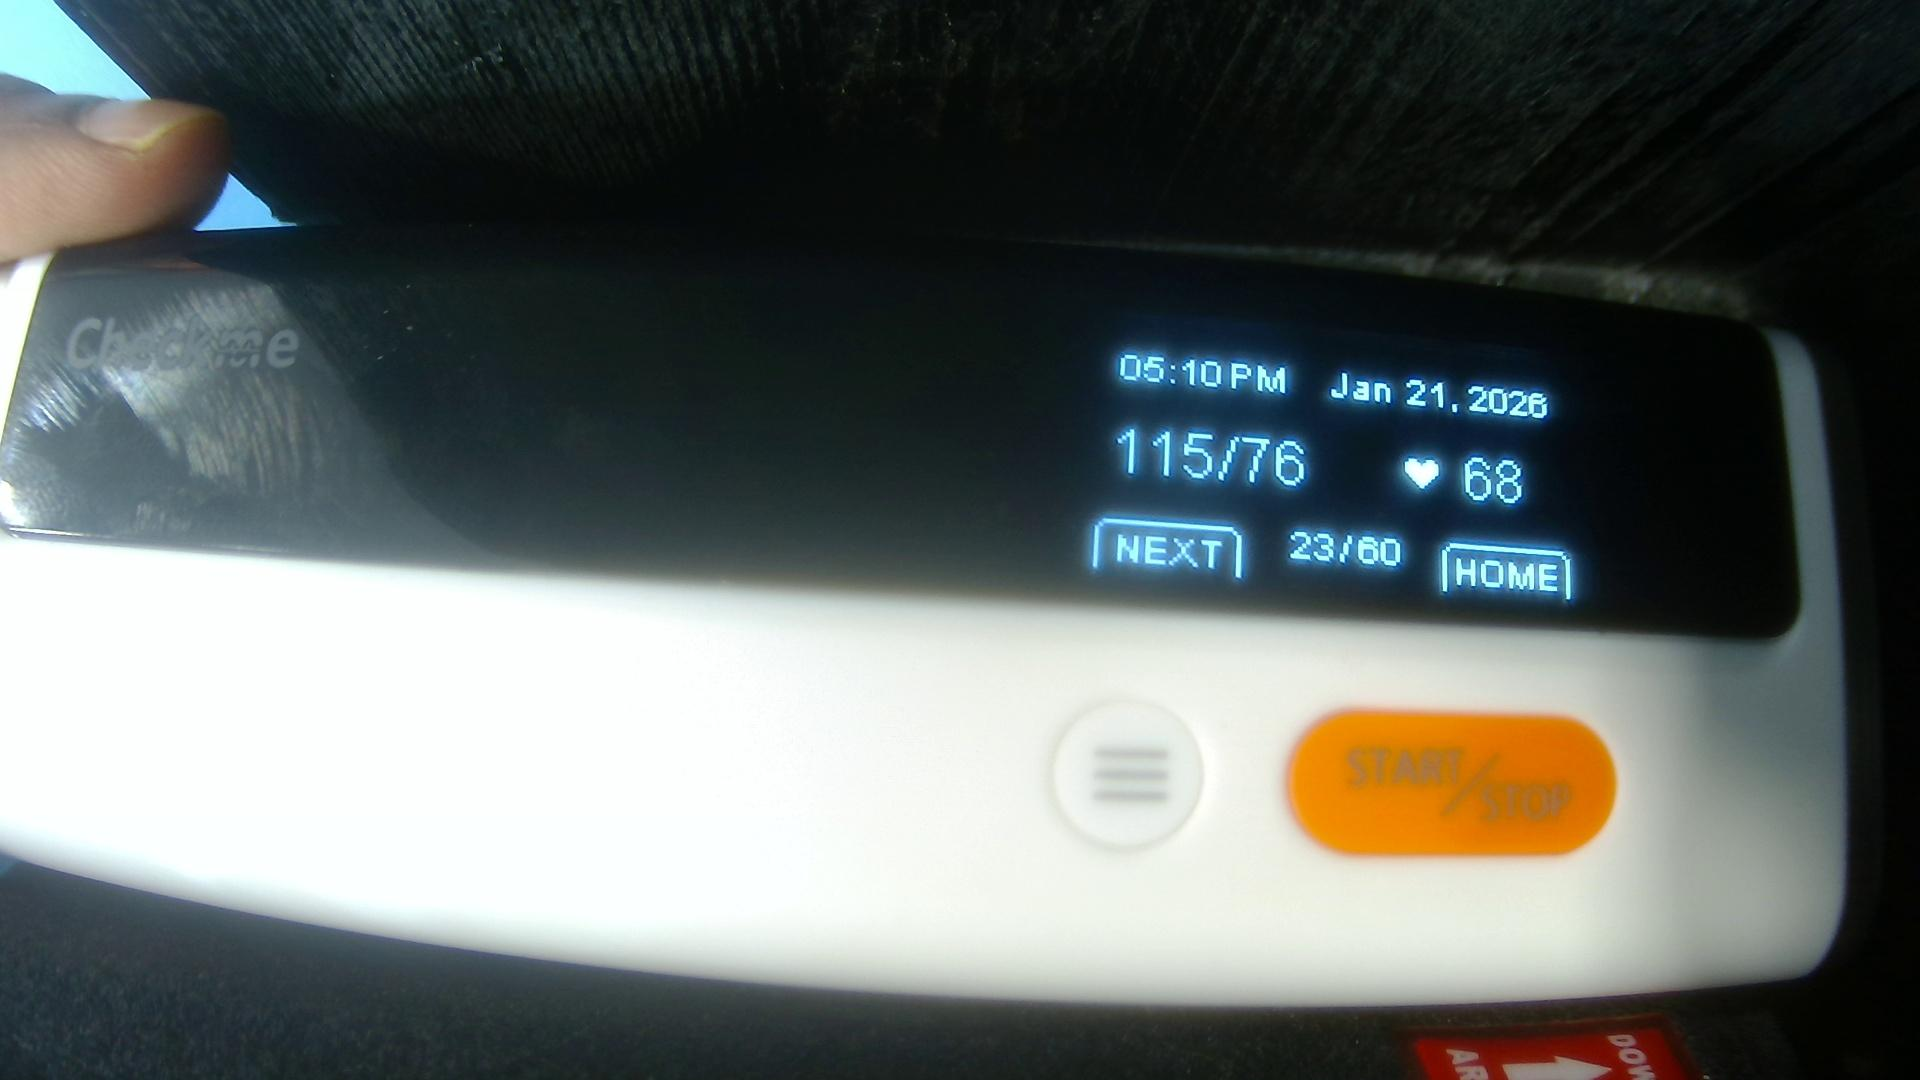DISPLAY: (53, 237, 1789, 629)
